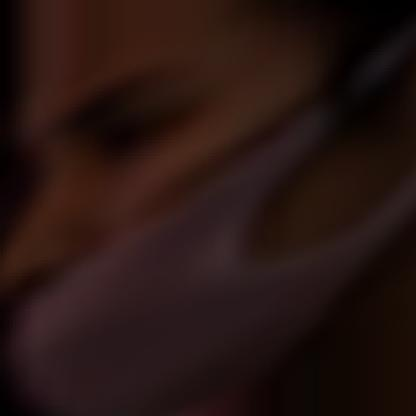mask_weared_incorrect: (0, 0, 374, 401)
